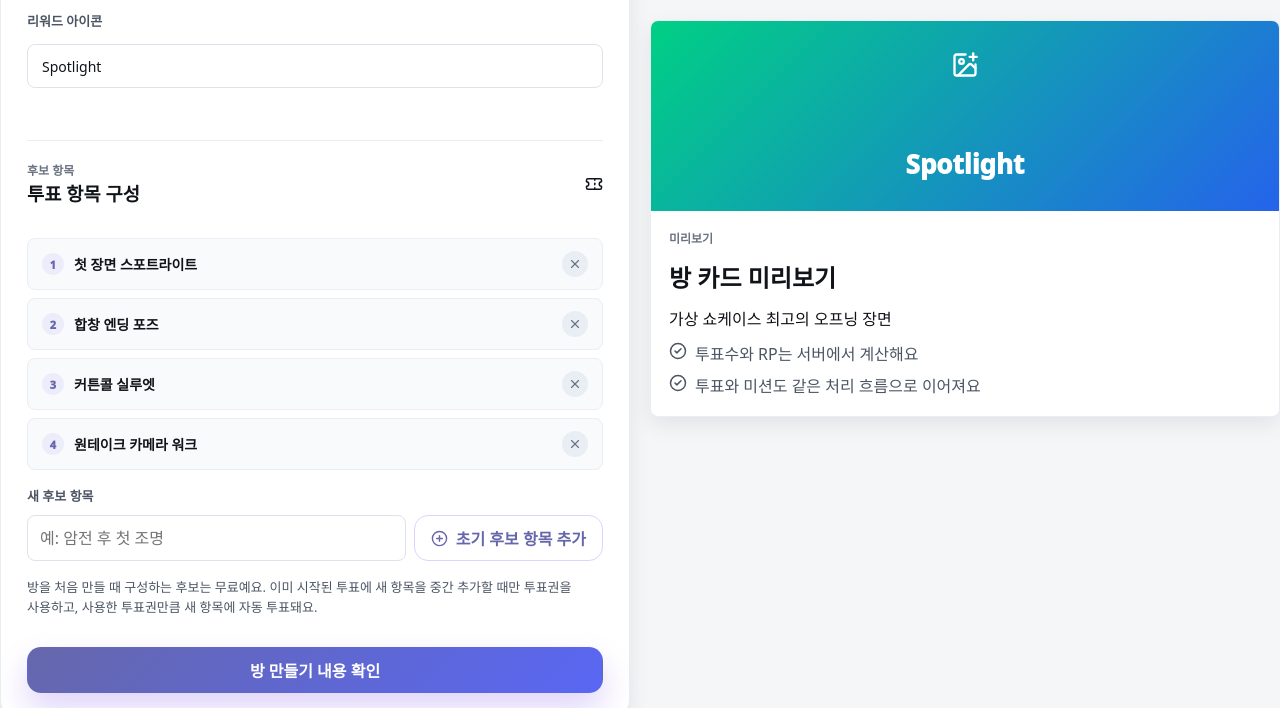
Test: RoomCreatePage › adds a candidate when Enter is pressed in the candidate input without submitting the form
The width and height of the screenshot is (1280, 708).
(page scrolled)
Note: 새 후보 입력하고 Enter 입력
Type "Enter로 추가된 후보" into the field labelled "새 후보 항목".
click(216, 538); type("Enter로 추가된 후보")  # box x1=27 y1=515 x2=406 y2=561
Then press Enter
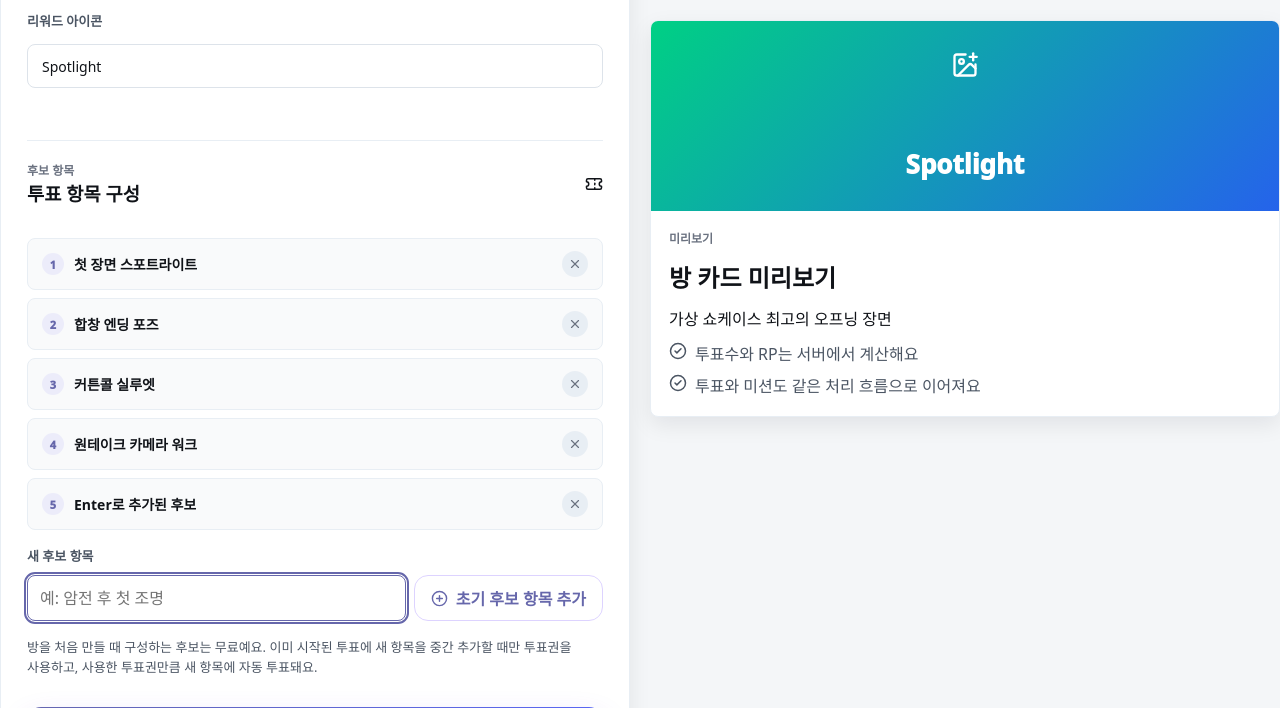
Now the text "Enter로 추가된 후보" is shown, box x1=74 y1=494 x2=196 y2=514
